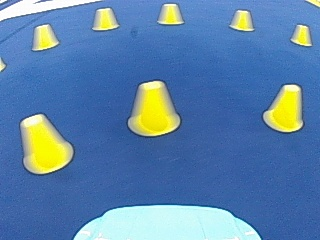cone: (19, 113, 71, 174), (128, 80, 179, 136), (264, 83, 303, 132), (31, 23, 59, 50), (93, 7, 118, 31), (157, 3, 183, 25), (229, 9, 253, 31), (290, 24, 312, 46)
